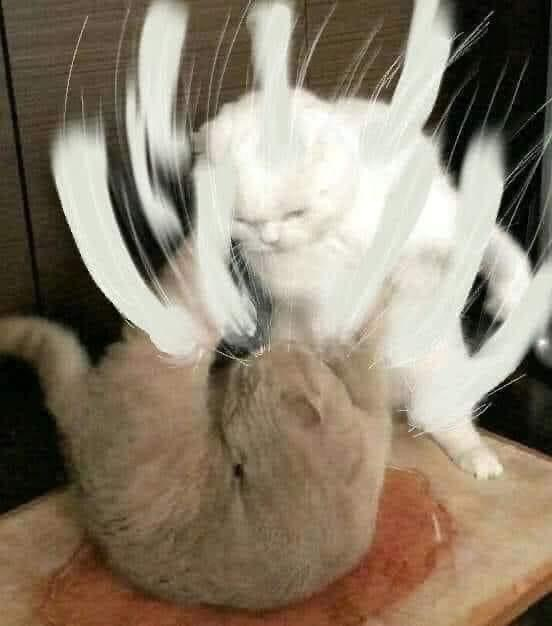cat: (1, 314, 391, 612), (202, 91, 466, 344)
